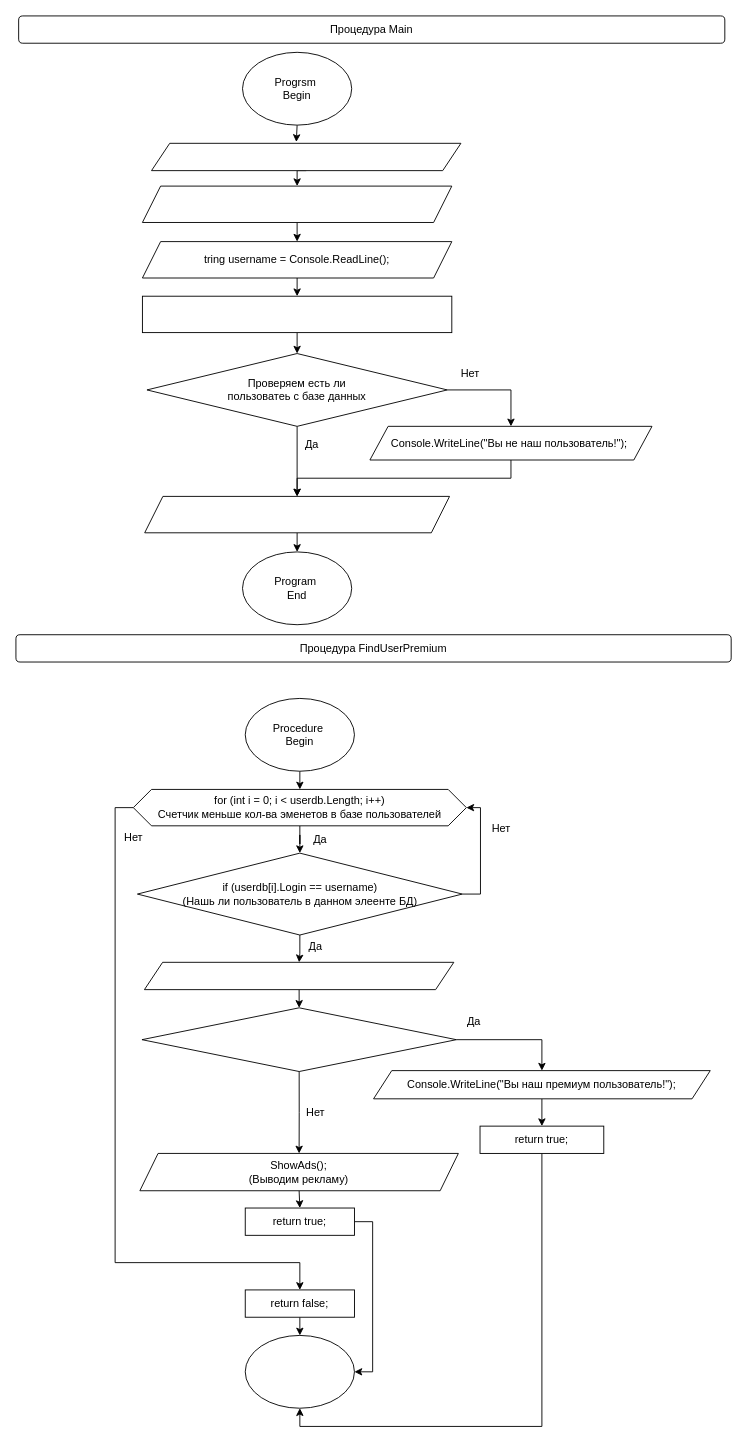
The diagram is 747 pixels wide and 1450 high, and some of its shapes have lost their labels. Here are the shapes that lost their labels. From the top down, the centre of each, then its label:
[306,156]: Console.WriteLine("Hello, World!");
[297,203]: Console.WriteLine("Представьтесь пожалуйста:");
[297,314]: Module_12_1_5 premiumData = new Module_12_1_5();
[297,514]: Console.ReadKey();
[299,975]: Console.WriteLine("Здравствуйте: "+userdb[i].Name);
[298,1039]: if (userdb[i].IsPremium = true) (У нашего пользователя премиум аккаунт?)
[299,1371]: Procedure End
